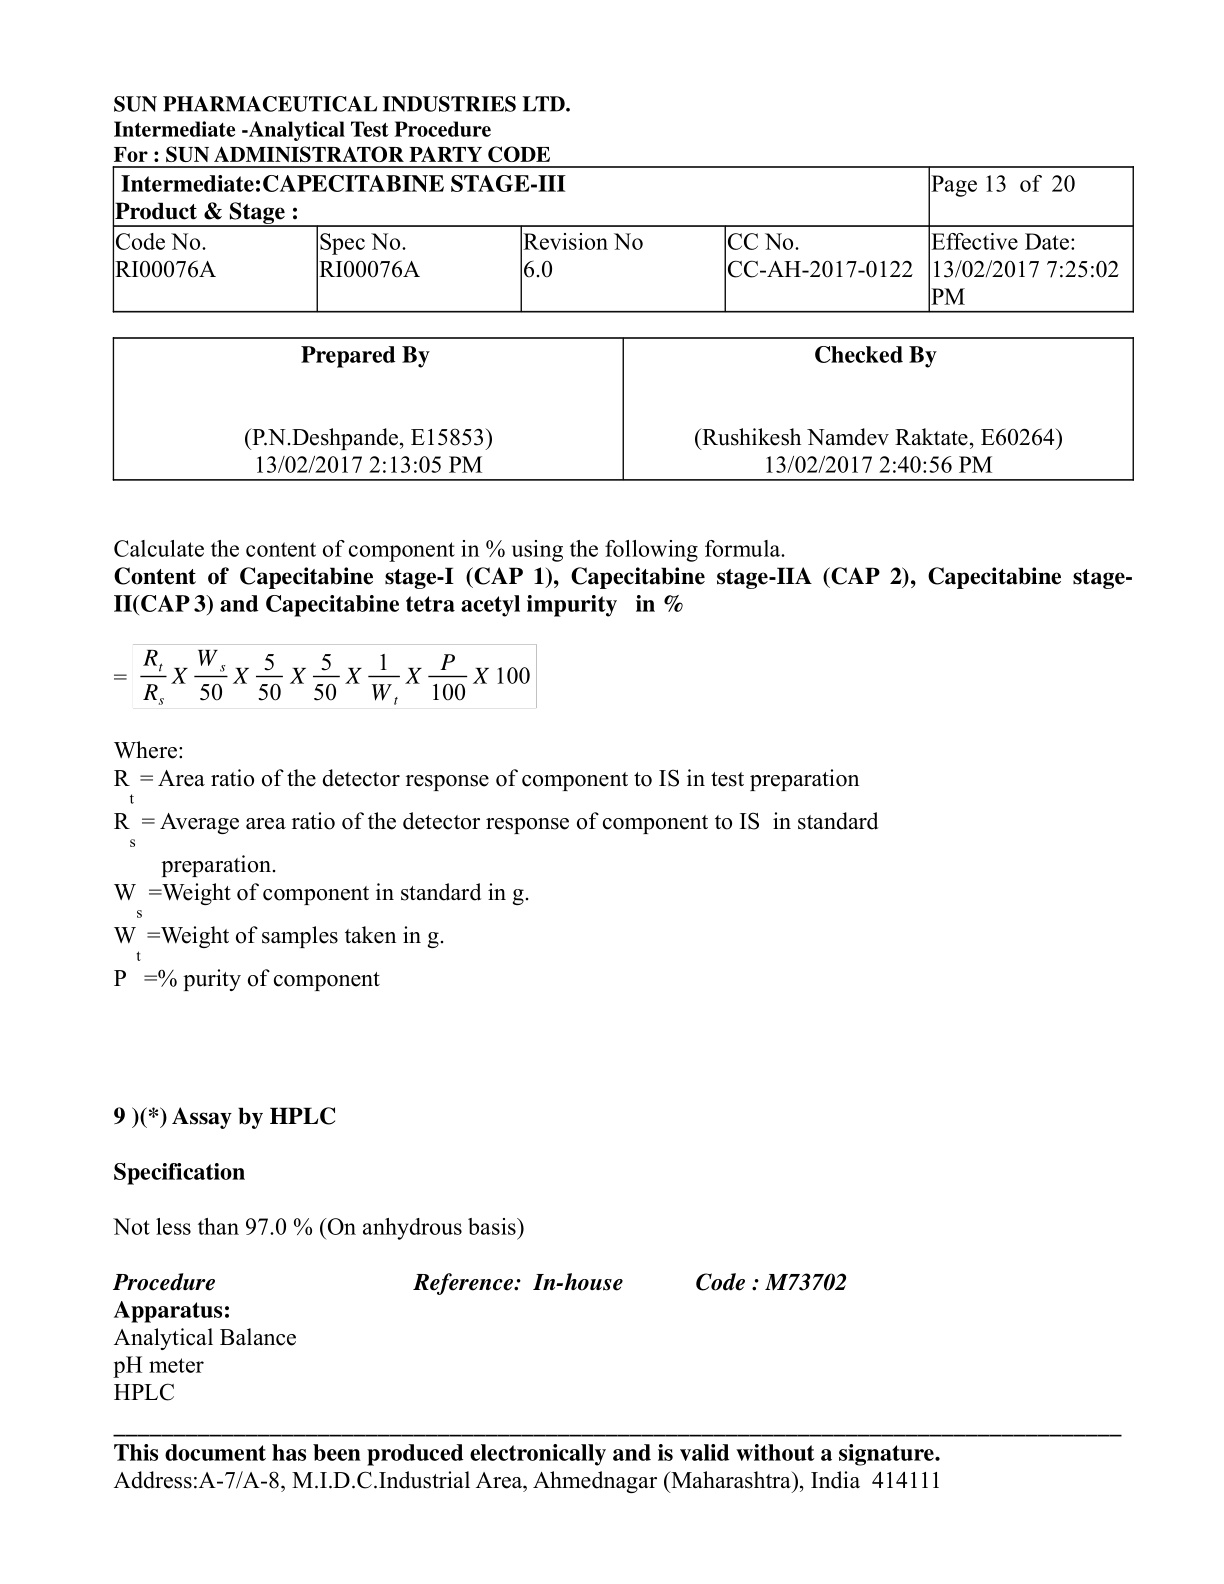full_lined: (111, 334, 1135, 482)
merged_cells: (111, 165, 1135, 314)
